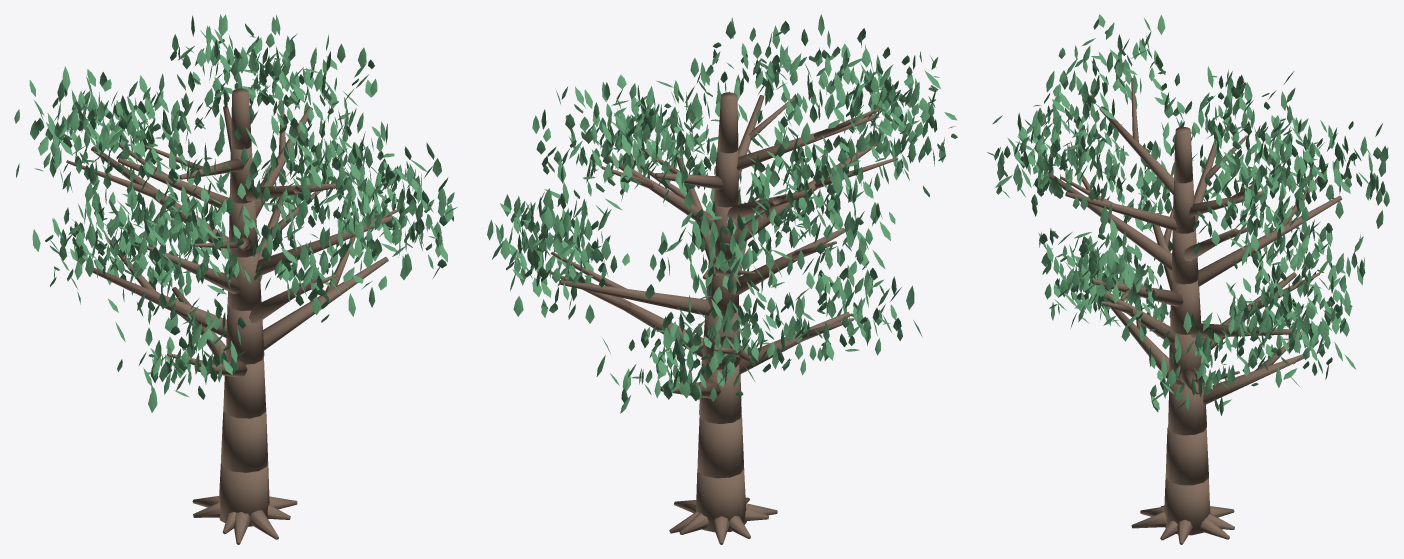
Rendered from forest_tree_3.glb.
3 views of the same model, side by side, from view 1: azimuth 30°, elevation 25°; view 2: azimuth 150°, elevation 25°; view 3: azimuth 270°, elevation 25° (orthographic). The views are drawn at different scales.
Parts seen in each view (by area): view 1: ForestTree3; view 2: ForestTree3; view 3: ForestTree3.
Boxes of the visible parts, box(x1,y1,x2,y2) form: ForestTree3: box(14, 14, 457, 544); ForestTree3: box(487, 14, 957, 544); ForestTree3: box(987, 14, 1389, 544).
Size of the model in its own units: 7.65 by 9.47 by 7.74.
